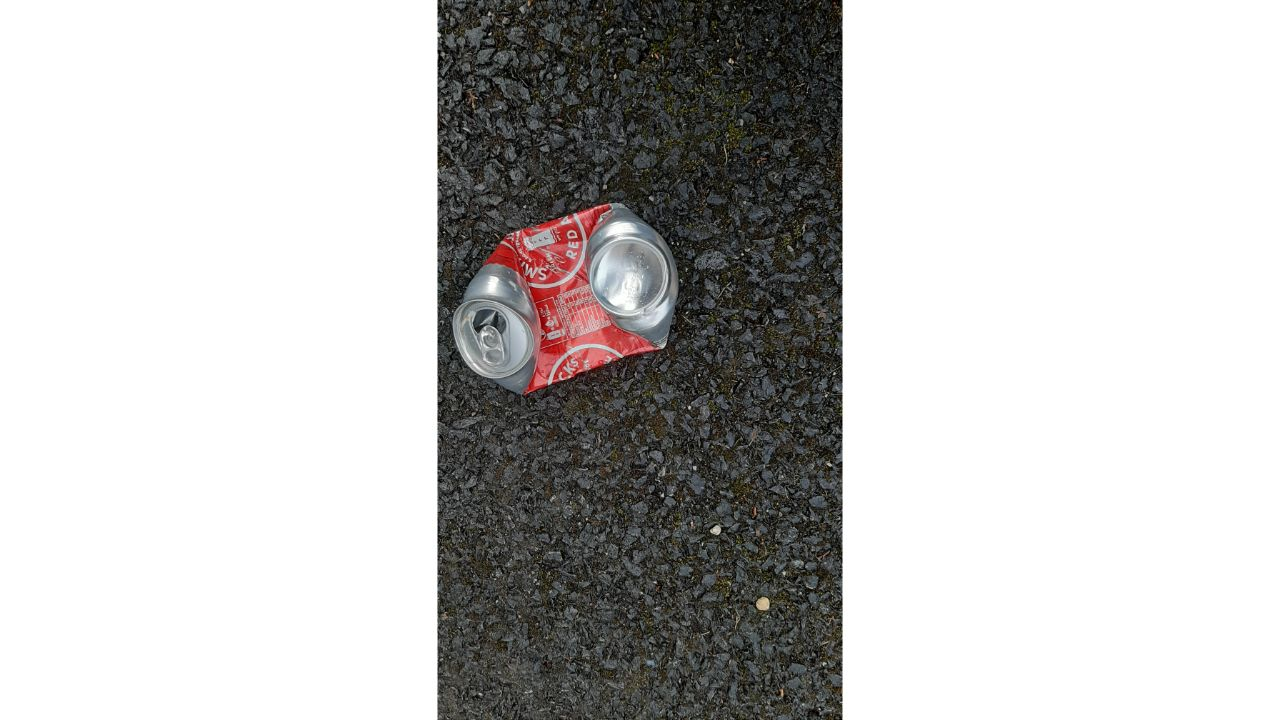Can: (451, 204, 678, 398)
